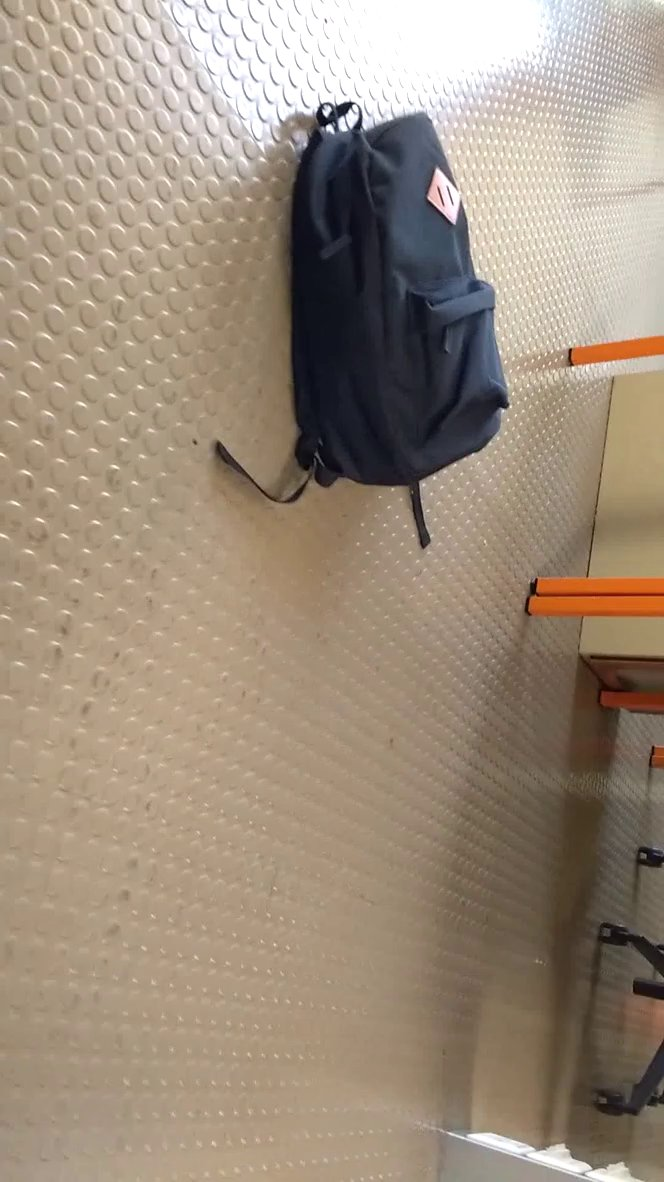bag: (200, 86, 519, 563)
